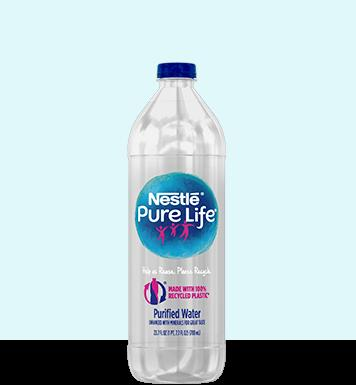bottle: (1, 20, 232, 385)
